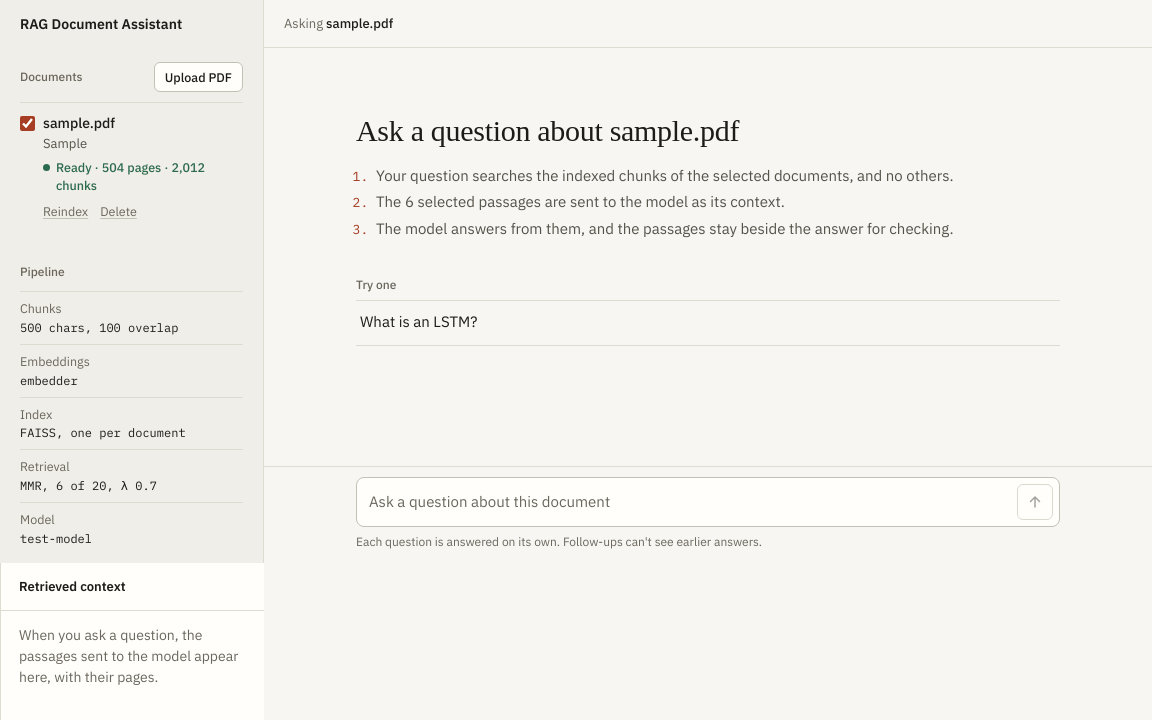
it: App › marks a stopped question as stopped
In the text box named "Question about the document": [689, 502] box [369,484,1009,520], type "What does it do?"
Then press Enter
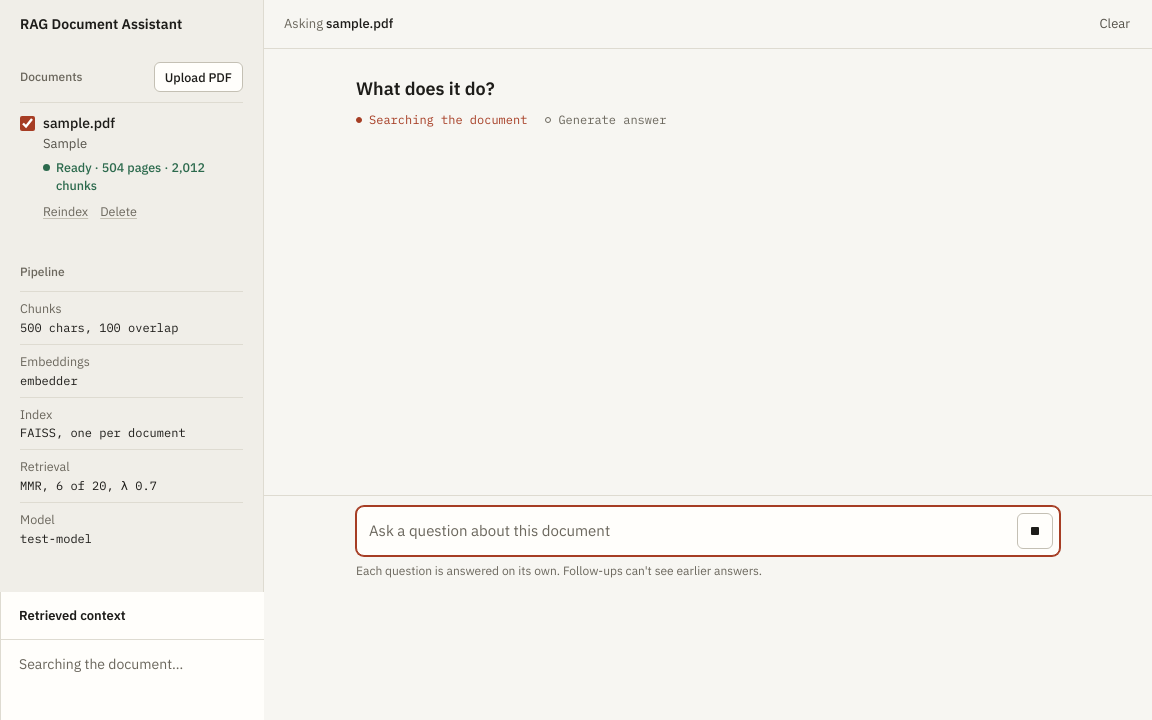
Click the button named "Stop generating": [1035, 531] box [1017,513,1053,549]
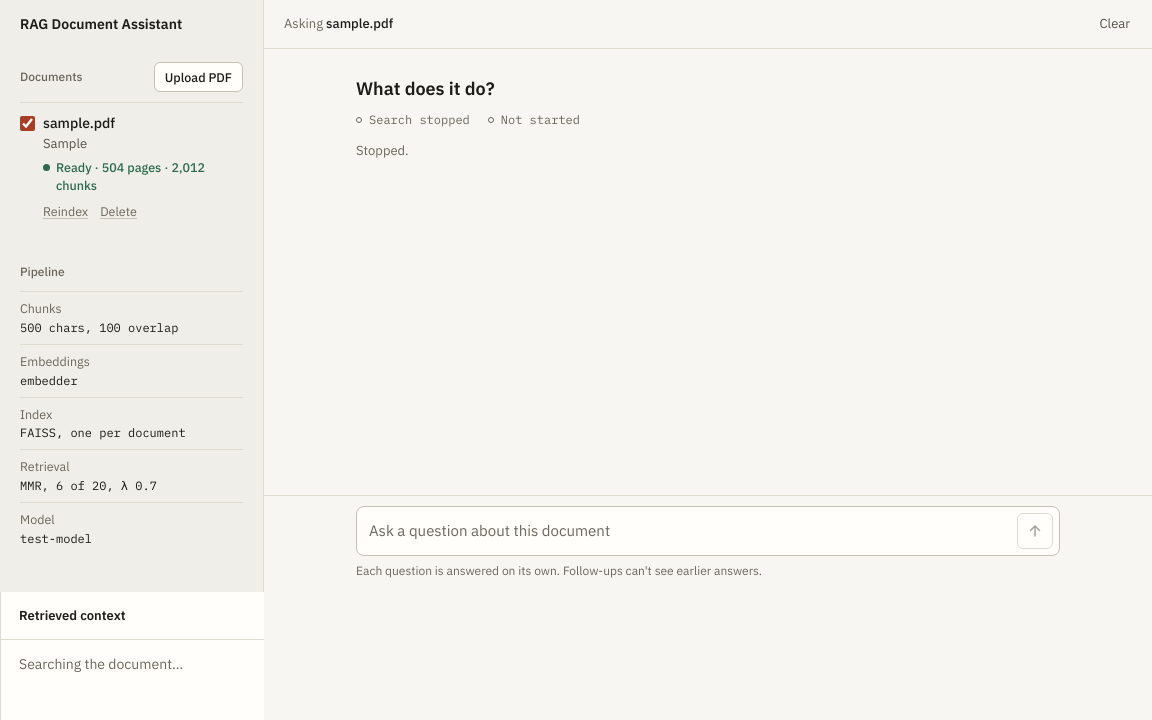
Check: the text "Stopped." is shown, box [356,142,409,159]
